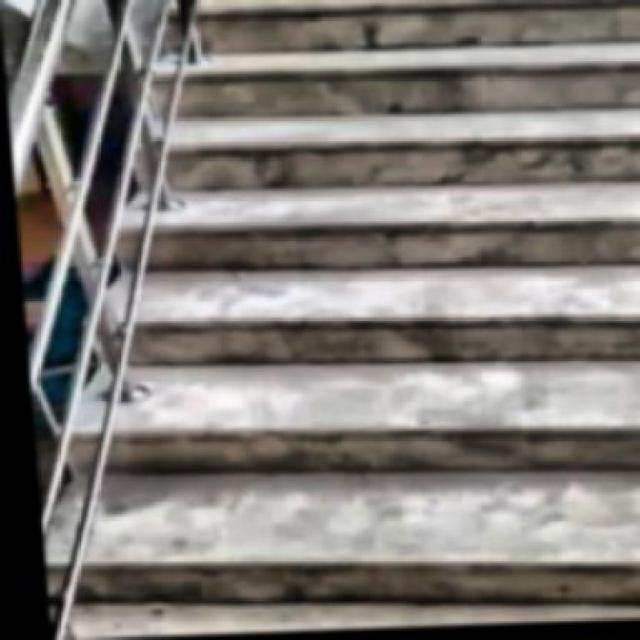stair: (44, 0, 638, 628)
